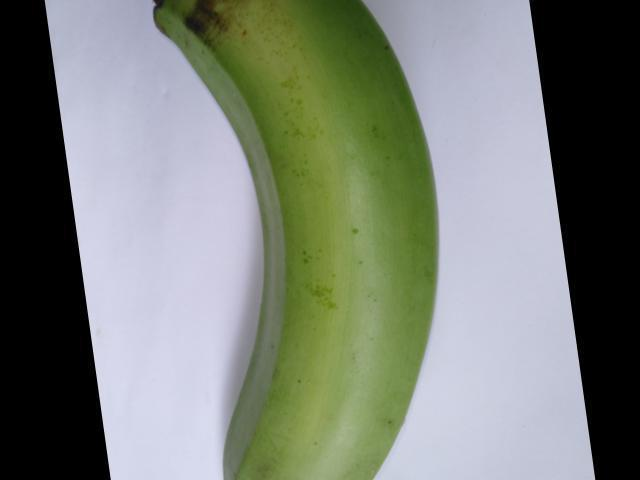freshunripe: (142, 0, 464, 479)
